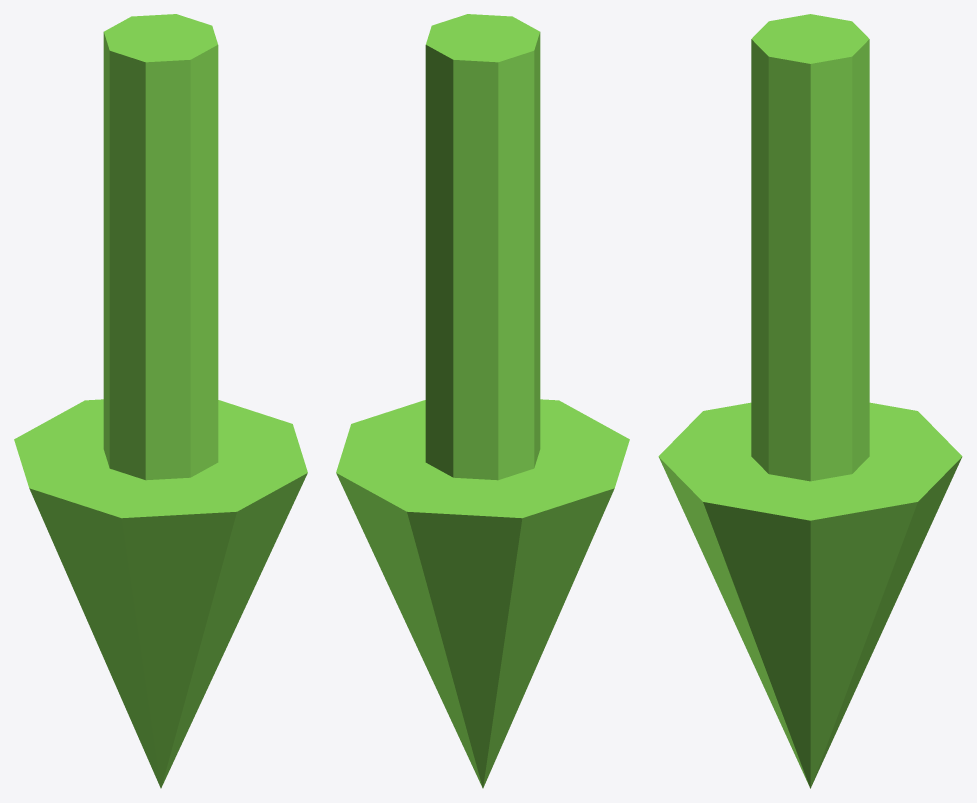
File: start.glb
3 renders of one model, left to right at view 1: azimuth 30°, elevation 25°; view 2: azimuth 150°, elevation 25°; view 3: azimuth 270°, elevation 25°, orthographic.
Visible parts, largest first — view 1: Cone; view 2: Cone; view 3: Cone.
Boxes of the visible parts, left/top/right/bottom form: Cone: left=14, top=14, right=307, bottom=788; Cone: left=336, top=14, right=629, bottom=788; Cone: left=658, top=14, right=962, bottom=788.
Bounding box in the file's own units: 1.16 × 3.16 × 1.16.
